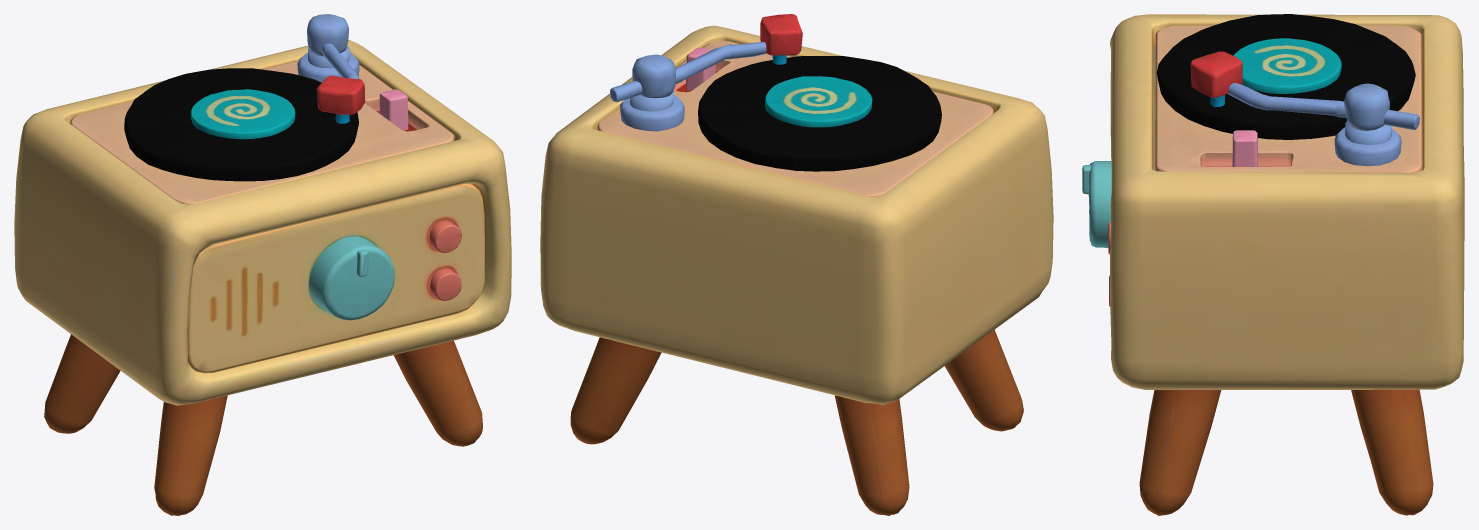
File: record-player.glb
3 renders of one model, left to right at view 1: azimuth 30°, elevation 25°; view 2: azimuth 150°, elevation 25°; view 3: azimuth 270°, elevation 25°, orthographic. The views are drawn at different scales.
Visible parts, largest first — view 1: geometry_0; view 2: geometry_0; view 3: geometry_0.
Part boxes in pixels (left/top/right/bottom): geometry_0: left=14, top=14, right=511, bottom=515; geometry_0: left=540, top=14, right=1053, bottom=515; geometry_0: left=1082, top=14, right=1464, bottom=515.
Size of the model in its own units: 1 by 1 by 0.8683.
Materials: 1 (1 with a texture image).
